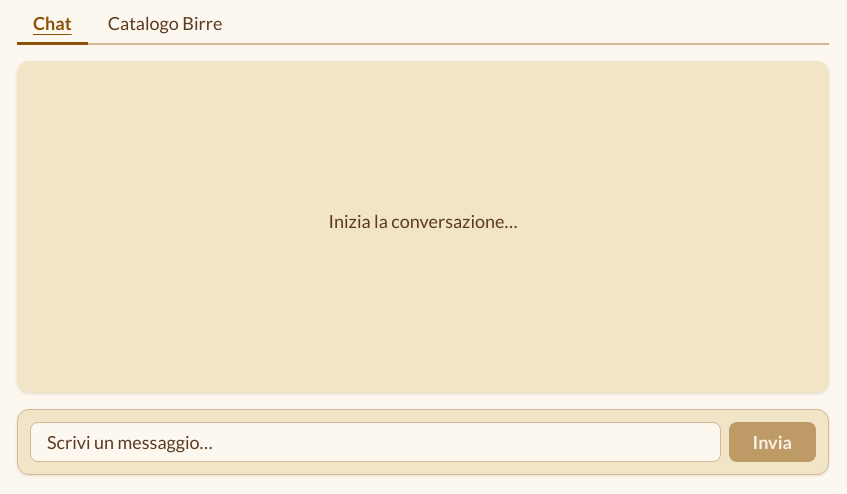
Test: ChatPage integration › appends an error message and keeps input enabled when API fails
Type "Trigger error" into the field. click: x=375, y=442
box: [30,422,720,462]
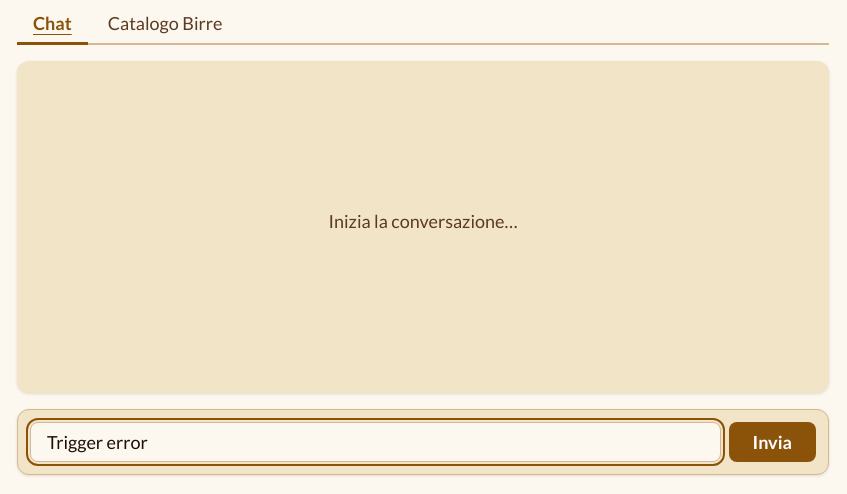
Click the button "Invia". click: x=772, y=442
box: [728,422,816,462]
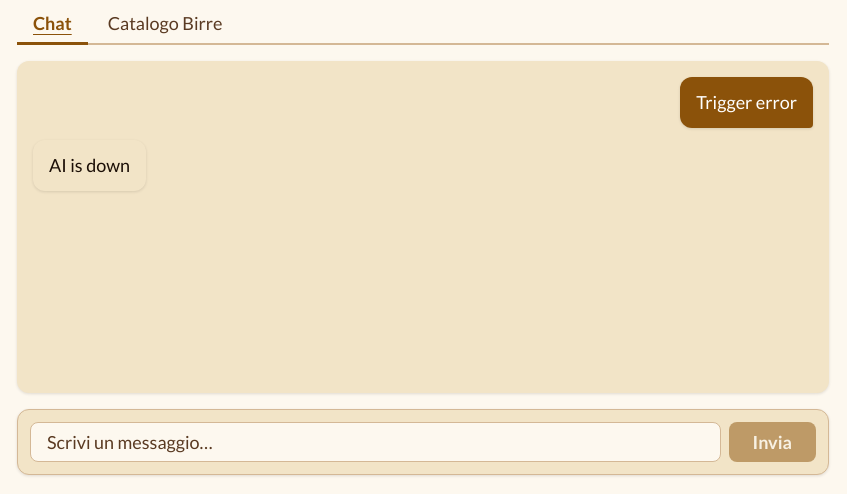
Expected: the field is enabled, [30,422,720,462]
Result: the text "AI is down" is shown at [33,140,146,191]
